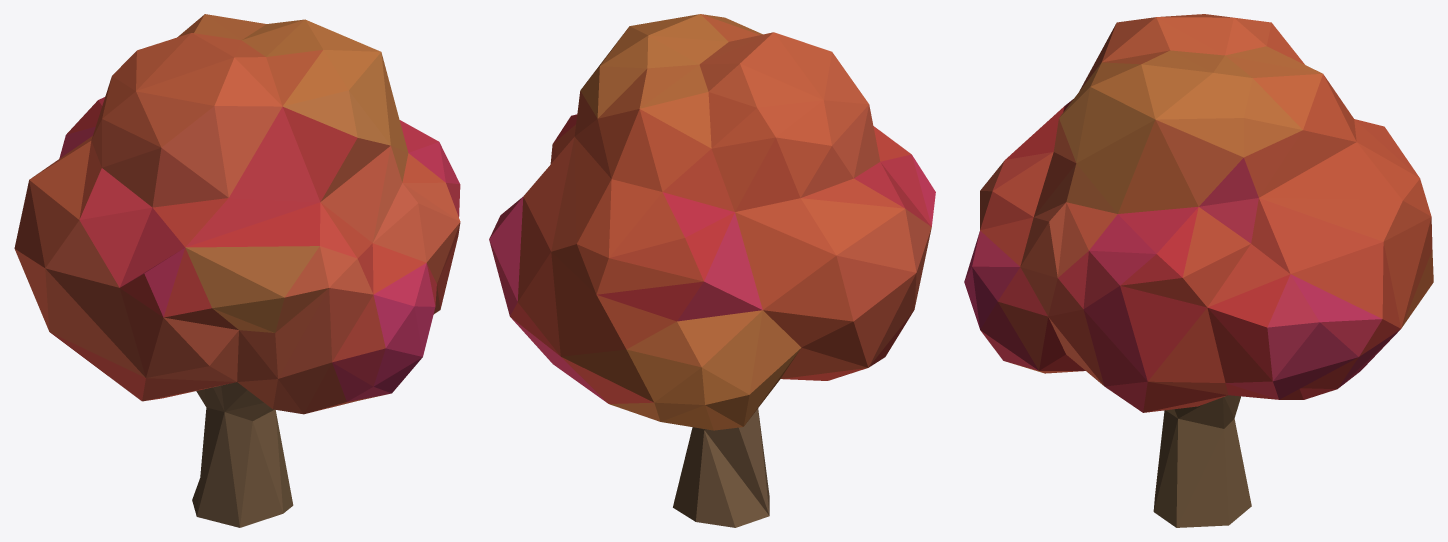
File: tree_autumn_red.glb
3 renders of one model, left to right at view 1: azimuth 30°, elevation 25°; view 2: azimuth 150°, elevation 25°; view 3: azimuth 270°, elevation 25°, orthographic. The views are drawn at different scales.
Visible parts, largest first — view 1: scenery; view 2: scenery; view 3: scenery.
Boxes of the visible parts, x1,y1,x2,y2 form: scenery: [14, 14, 460, 527]; scenery: [489, 14, 935, 527]; scenery: [964, 14, 1433, 527].
Bounding box in the file's own units: 0.861 × 1 × 0.8925.
